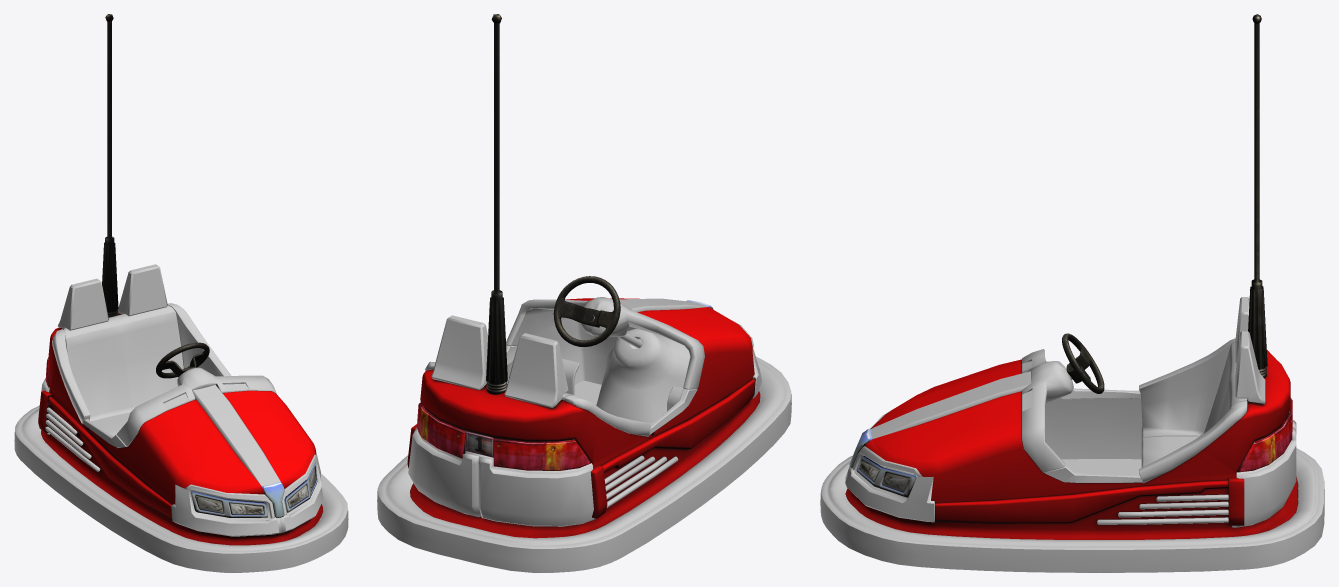
Rendered from RedCar.fbx.
The picture shows the model from 3 angles, left to right: view 1: azimuth 30°, elevation 25°; view 2: azimuth 150°, elevation 25°; view 3: azimuth 270°, elevation 25°; orthographic projection. The views are drawn at different scales.
Parts seen in each view (by area): view 1: Object_7, Object_8, Object_9, Object_3, Object_6, Object_4; view 2: Object_7, Object_8, Object_3, Object_4, Object_6, Object_9; view 3: Object_7, Object_3, Object_8, Object_4, Object_9, Object_6.
Part boxes in pixels (x1=…): Object_7: x1=38, y1=313, x2=323, y2=545; Object_8: x1=38, y1=264, x2=323, y2=536; Object_9: x1=52, y1=303, x2=231, y2=436; Object_3: x1=14, y1=405, x2=348, y2=572; Object_6: x1=102, y1=14, x2=317, y2=517; Object_4: x1=45, y1=407, x2=191, y2=491; Object_7: x1=407, y1=298, x2=760, y2=538; Object_8: x1=408, y1=297, x2=761, y2=526; Object_3: x1=377, y1=356, x2=791, y2=572; Object_4: x1=506, y1=315, x2=697, y2=508; Object_6: x1=465, y1=14, x2=713, y2=457; Object_9: x1=425, y1=361, x2=651, y2=449; Object_7: x1=845, y1=350, x2=1298, y2=539; Object_3: x1=820, y1=448, x2=1324, y2=572; Object_8: x1=845, y1=297, x2=1296, y2=527; Object_4: x1=879, y1=373, x2=1228, y2=524; Object_9: x1=1139, y1=338, x2=1247, y2=483; Object_6: x1=849, y1=14, x2=1289, y2=497.
Bounding box in the file's own units: 804 × 1599 × 1456.
